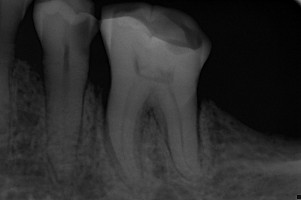Endo-Periodontal Lesion: (144, 106, 160, 129)
